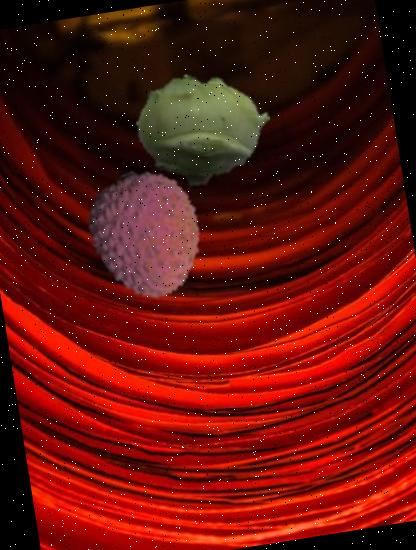Kohlrabi: (127, 54, 280, 208)
Lychee: (74, 160, 224, 310)
